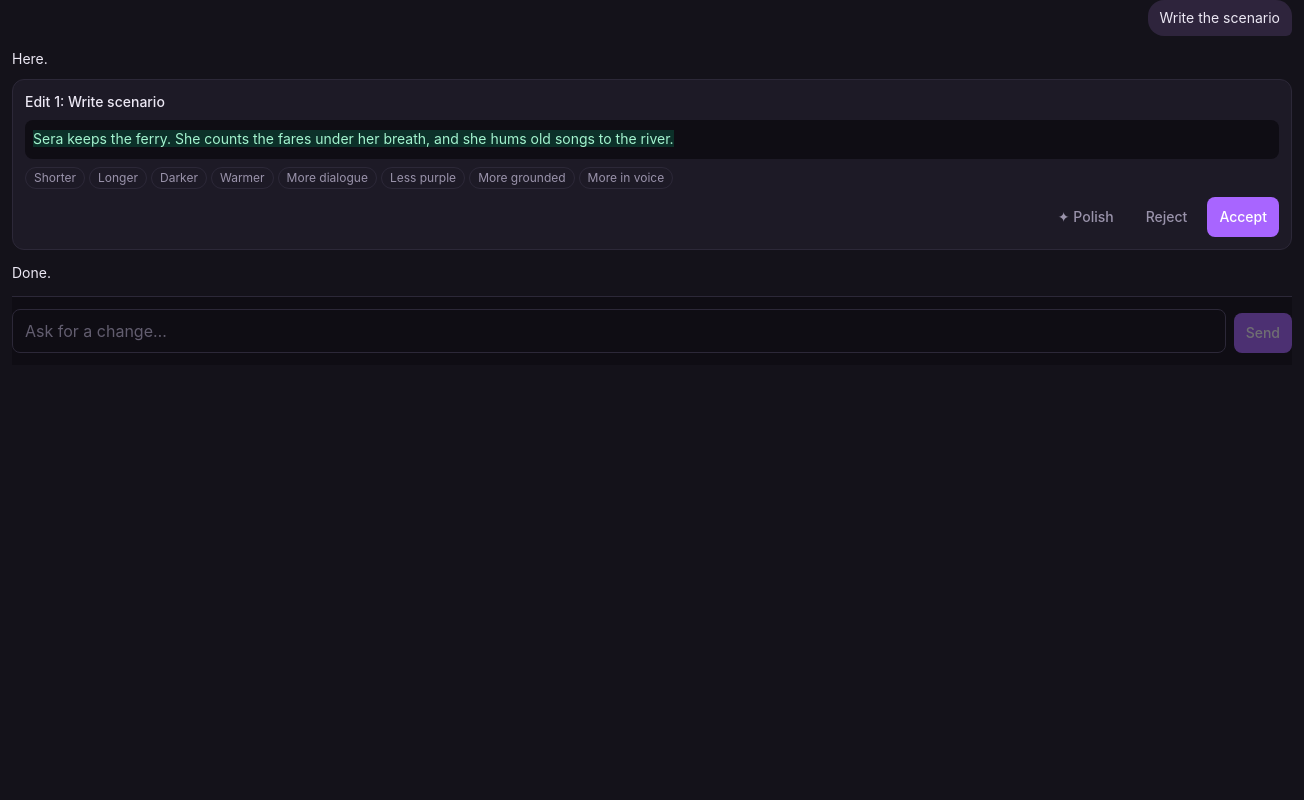
it: prose editor pass › polishes a pending proposal and a field on demand
Step 1. Click the button with aria-label "Polish edit 1" → (1086, 216), box [1046,196,1126,236]
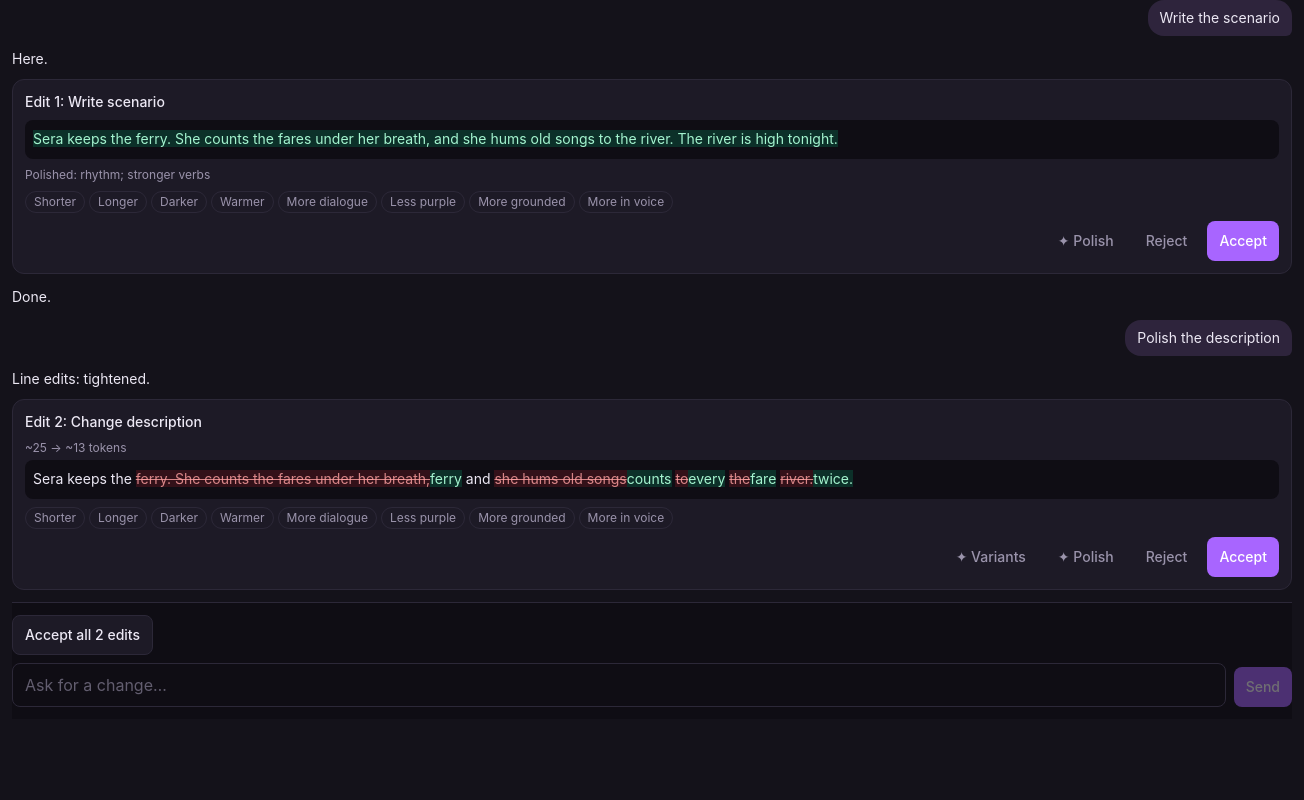
expect the text "Polished: rhythm; stronger verbs" is shown: met, box [25,166,210,182]
